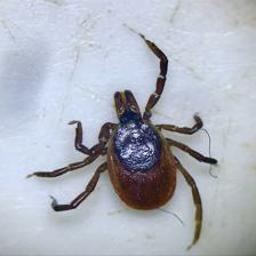Ixodes scapularis: (33, 39, 213, 240)
